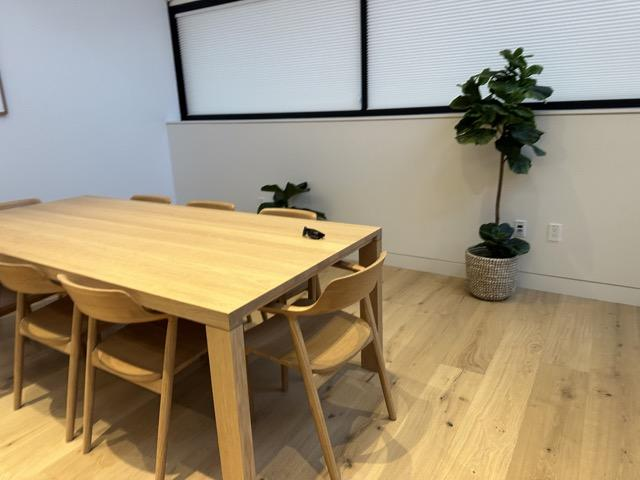Sunglasses: (301, 225, 325, 242)
